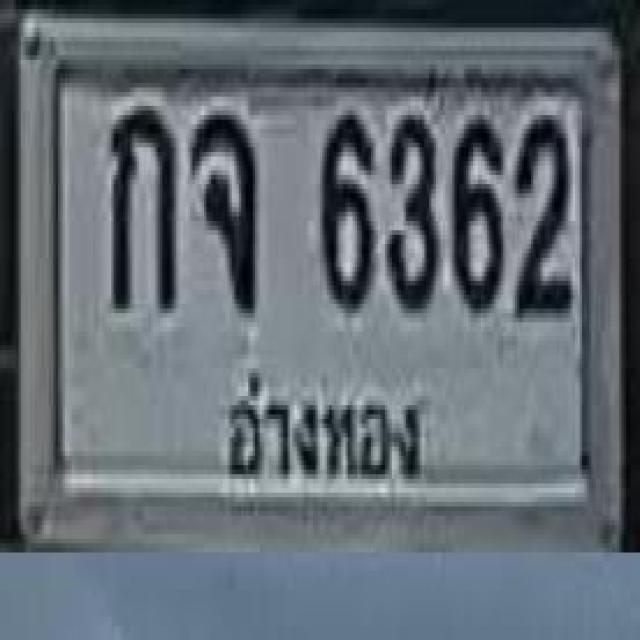license_plate: (19, 10, 626, 553)
